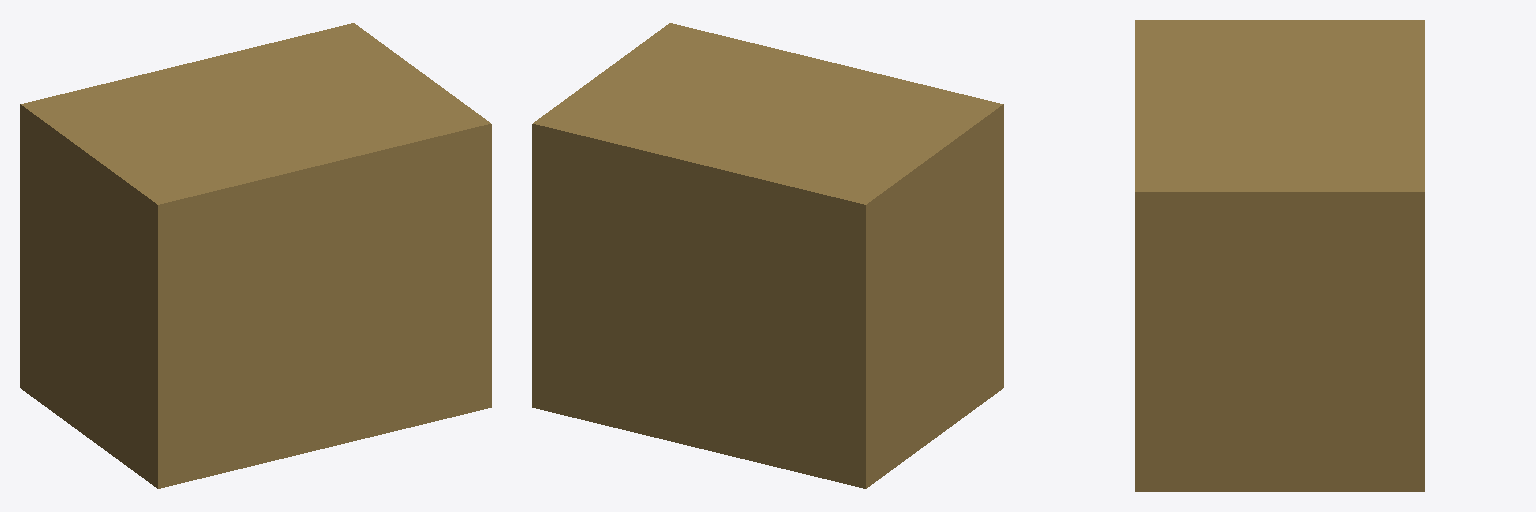
URDF robot description (mocap_box):
<?xml version="1.0"?>
<robot name="mocap_box">
  <link name="mocap_box_link">
    <inertial>
      <origin xyz="0 0 0"/>
      <mass value="0.5"/>
      <inertia ixx="0.01" ixy="0" ixz="0" iyy="0.01" iyz="0" izz="0.01"/>
    </inertial>
    <visual>
      <geometry><mesh filename="mocap_box.obj" scale="1 1 1"/></geometry>
      <material name="mocap_object"><color rgba="0.65 0.55 0.35 0.85"/></material>
    </visual>
    <collision name="mocap_box">
      <geometry><mesh filename="mocap_box.obj" scale="1 1 1"/></geometry>
    </collision>
  </link>
</robot>

--- Render facts (derived) ---
The picture shows the robot from 3 angles, left to right: view 1: azimuth 30°, elevation 25°; view 2: azimuth 150°, elevation 25°; view 3: azimuth 270°, elevation 25°; orthographic projection.
Model mocap_box with 1 links and 0 joints (none), rooted at mocap_box_link, posed all joints at 0.
Visible links, largest first — view 1: mocap_box_link; view 2: mocap_box_link; view 3: mocap_box_link.
Boxes of the visible links, x1=… form: mocap_box_link: x1=20, y1=23, x2=491, y2=488; mocap_box_link: x1=532, y1=23, x2=1003, y2=488; mocap_box_link: x1=1135, y1=20, x2=1424, y2=491.
Bounding box of the posed robot: 0.35 × 0.25 × 0.285 m (x, y, z).
1 mesh visuals loaded from 1 distinct referenced files (1 OBJ).
